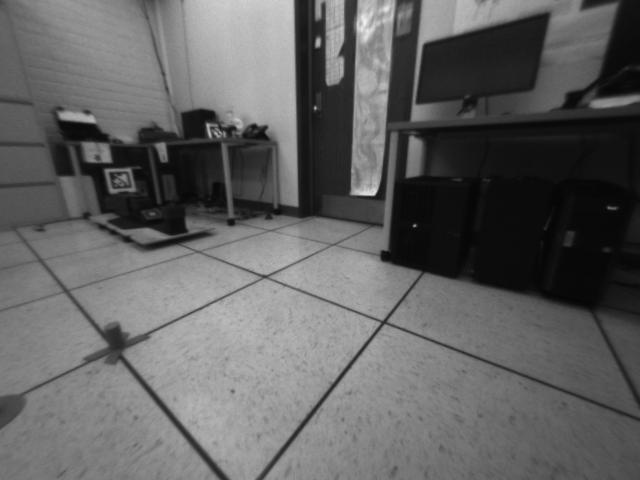X: (82, 319, 154, 366)
